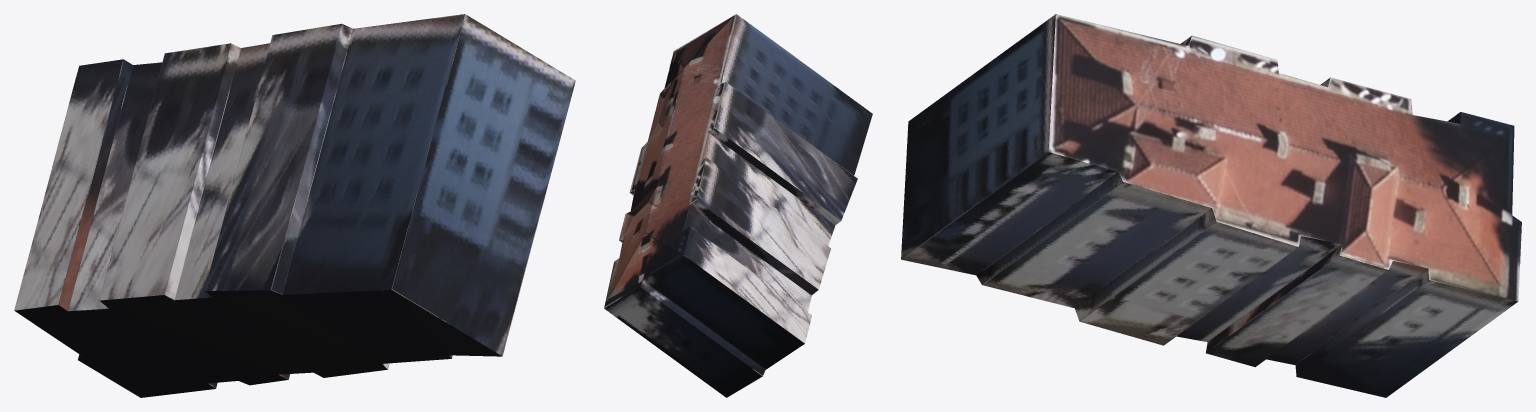
3 views of the same model, side by side, from view 1: azimuth 30°, elevation 25°; view 2: azimuth 150°, elevation 25°; view 3: azimuth 270°, elevation 25° (orthographic). The views are drawn at different scales.
Bounding box in the file's own units: 30.61 × 35.4 × 43.6.
Materials: 1 (1 with a texture image).
